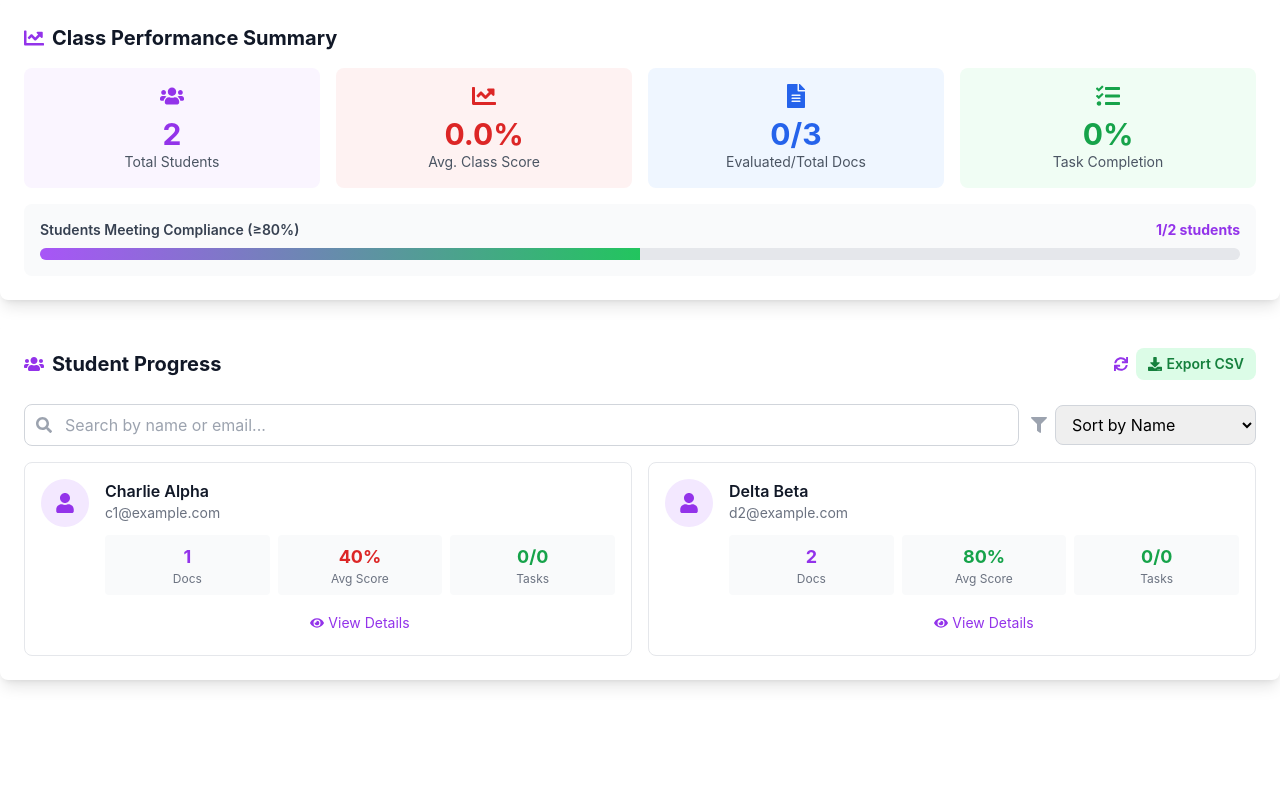
Test case: filters students by search and sorts by score
This screenshot has width=1280, height=800.
Check: the heading "Charlie Alpha" is shown, box top-left (105, 479), bottom-right (220, 503)
type search that matches Delta only
Type "delta" into the field with placeholder "Search by name or email..." at (522, 425), box top-left (24, 404), bottom-right (1019, 446)
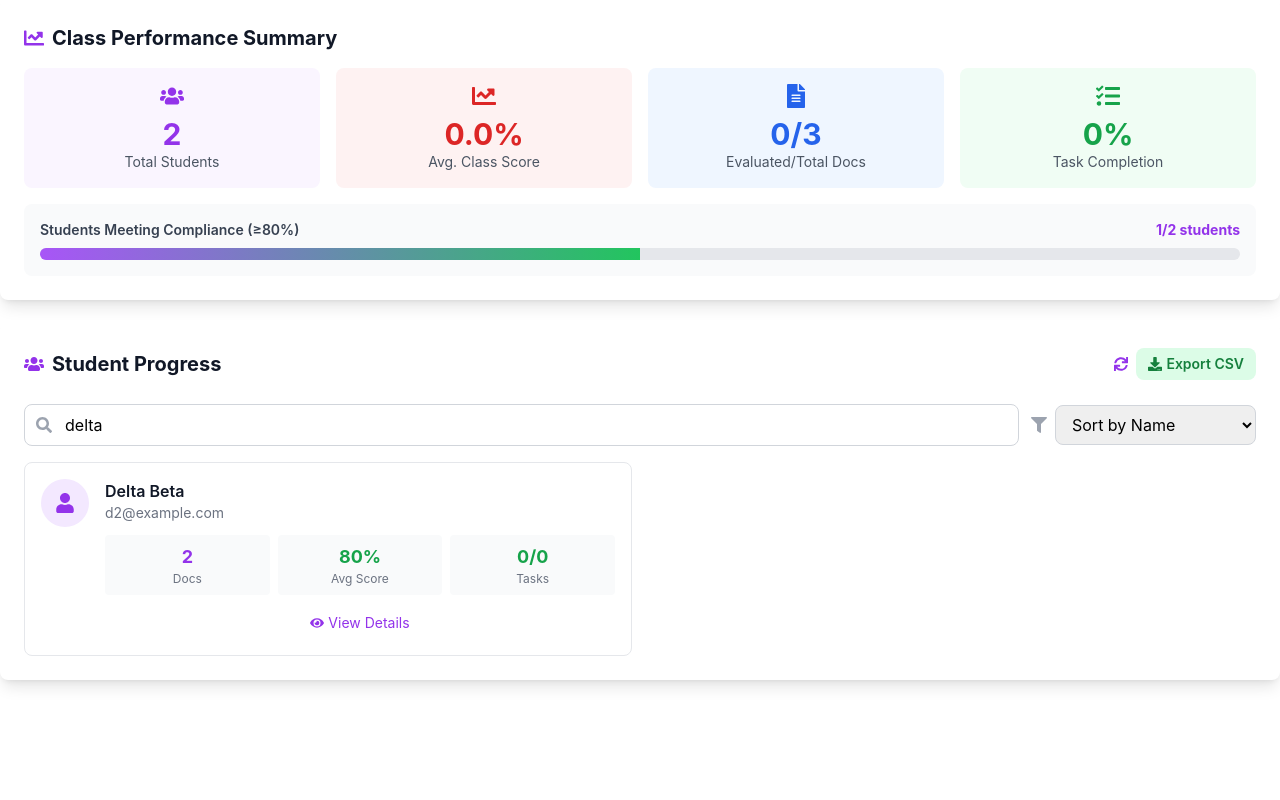
Check: the heading "Delta Beta" is shown, box top-left (105, 481), bottom-right (184, 501)
Check: the heading "Charlie Alpha" is gone
change sort to score
Select "Sort by Score" in the dropdown at (1156, 425), box top-left (1055, 405), bottom-right (1256, 445)
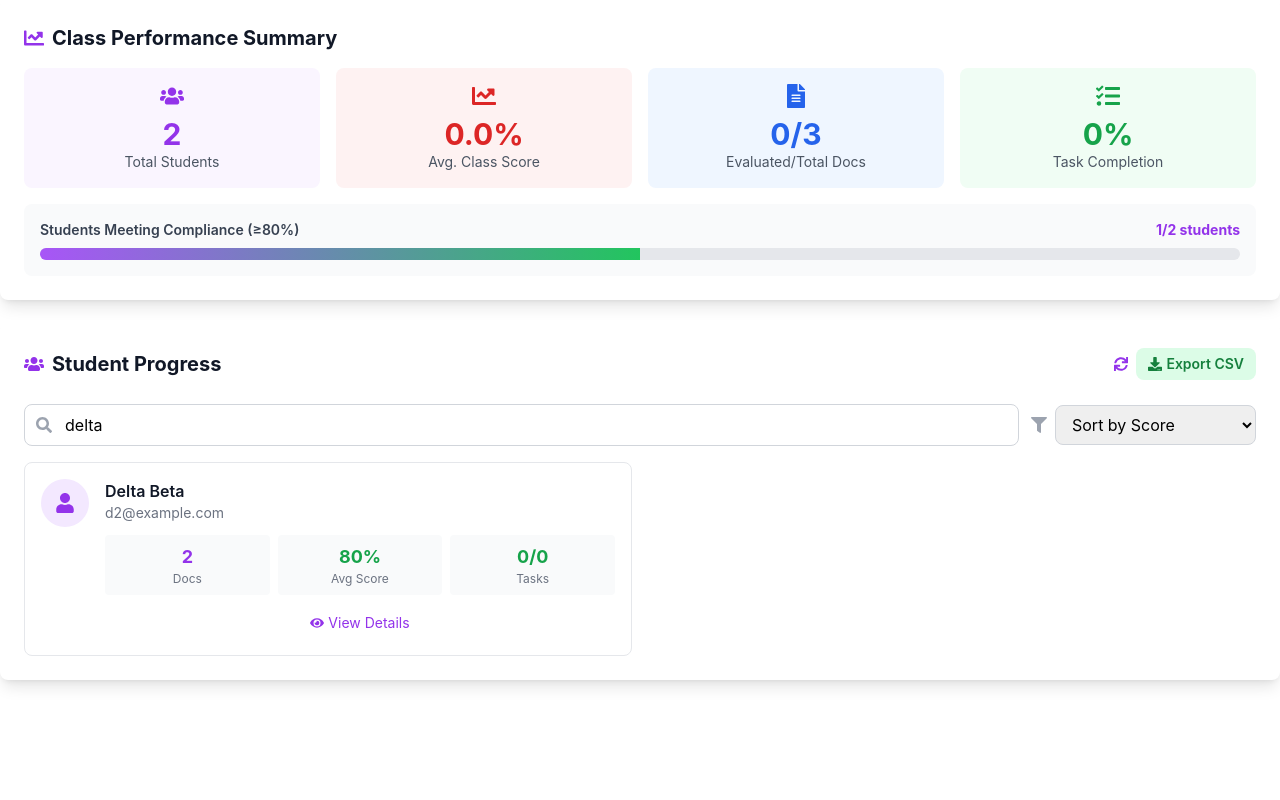
when sorted by score, Delta (80) should be above Charlie (40) if both present
Clear the field with placeholder "Search by name or email..." at (522, 425), box top-left (24, 404), bottom-right (1019, 446)
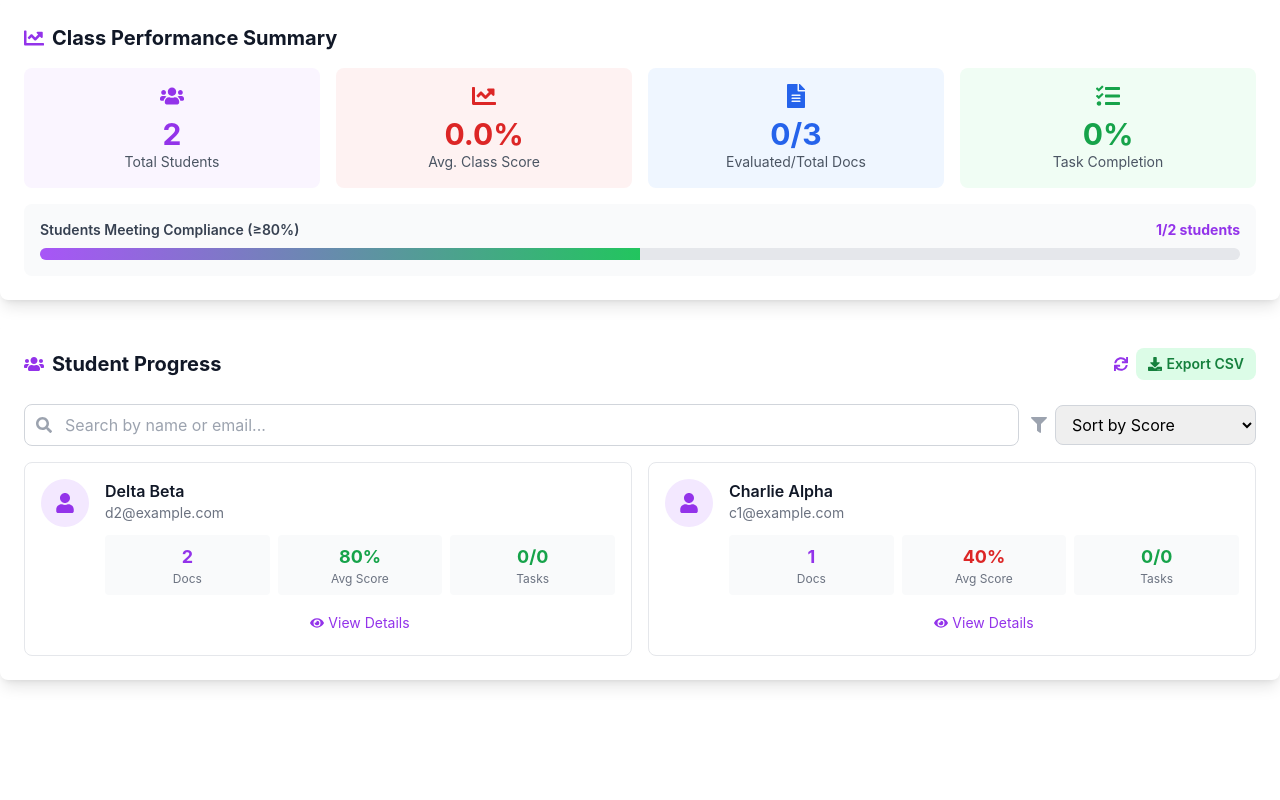
Check: the heading "Charlie Alpha" is shown, box top-left (729, 479), bottom-right (844, 503)
